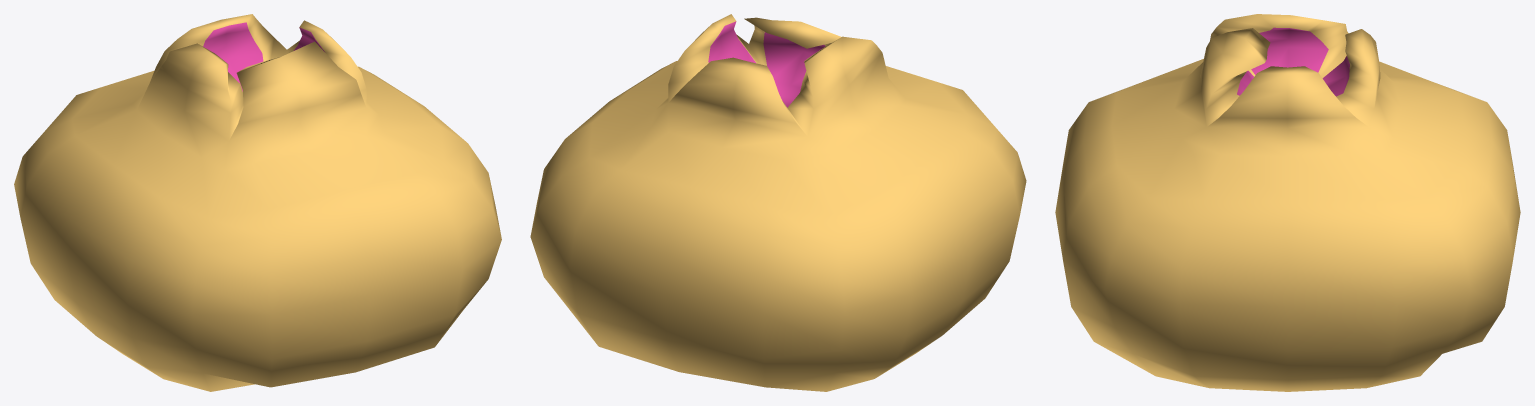
File: Bun 1.fbx
3 renders of one model, left to right at view 1: azimuth 30°, elevation 25°; view 2: azimuth 150°, elevation 25°; view 3: azimuth 270°, elevation 25°, orthographic. The views are drawn at different scales.
Parts seen in each view (by area): view 1: Cube; view 2: Cube; view 3: Cube.
Boxes of the visible parts, bbox=[...] form: Cube: bbox=[14, 14, 501, 391]; Cube: bbox=[530, 14, 1026, 391]; Cube: bbox=[1055, 14, 1520, 391].
Size of the model in its own units: 345 by 244 by 358.
